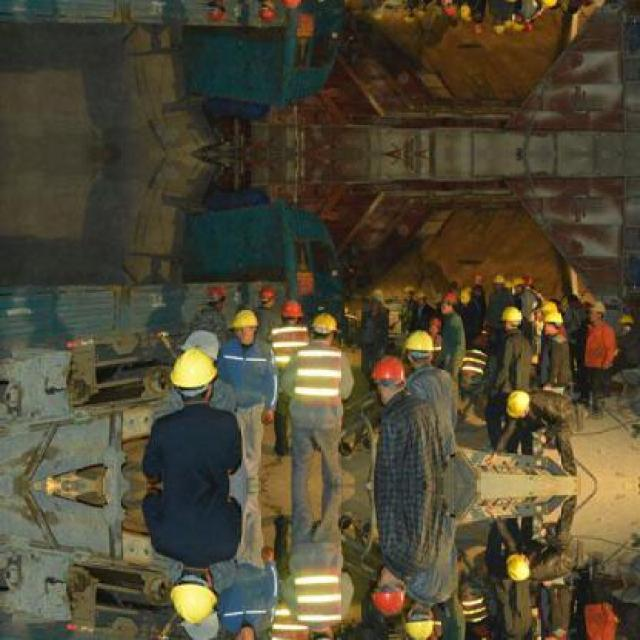helmet: (165, 573, 217, 624), (165, 346, 217, 396), (370, 570, 408, 614), (370, 356, 408, 398), (401, 328, 436, 364), (400, 604, 437, 637), (227, 308, 259, 344), (502, 387, 532, 423), (502, 547, 532, 582), (310, 308, 339, 344), (278, 298, 304, 327), (541, 308, 564, 338), (498, 303, 520, 334), (586, 298, 608, 326), (206, 284, 226, 313), (205, 0, 226, 25), (255, 283, 274, 308), (255, 0, 274, 25), (226, 624, 260, 637), (438, 290, 454, 316), (617, 310, 635, 333), (309, 624, 340, 637), (437, 0, 455, 19), (489, 272, 505, 292), (489, 16, 505, 36), (277, 0, 305, 11), (412, 288, 428, 306), (412, 2, 428, 20), (512, 275, 526, 294), (586, 0, 609, 11), (512, 14, 526, 32), (540, 631, 565, 637), (497, 0, 521, 6)
